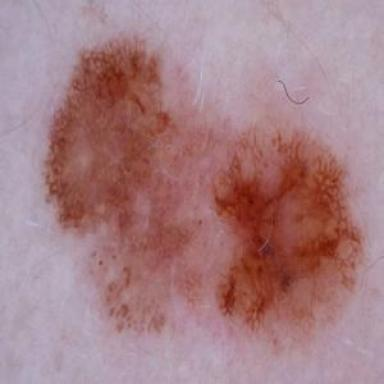Melanoma: (43, 41, 361, 337)
